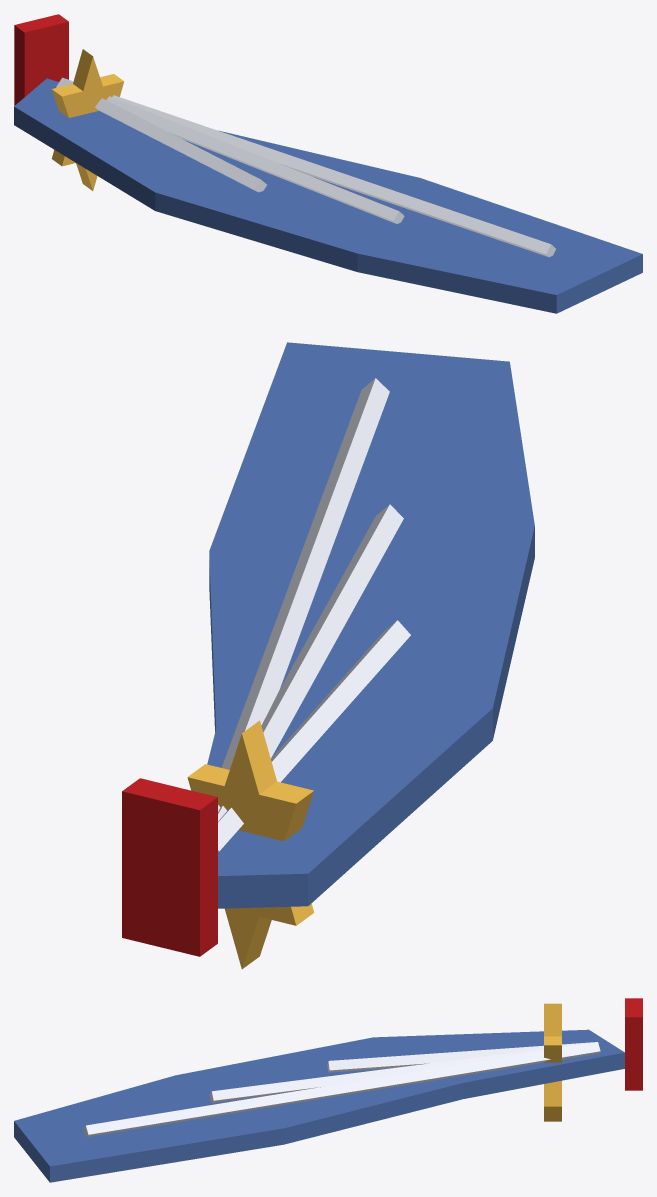
The model's file is TrophySkyfish.obj.
3 views of the same model, one above another, from view 1: azimuth 30°, elevation 25°; view 2: azimuth 150°, elevation 25°; view 3: azimuth 270°, elevation 25° (orthographic). The views are drawn at different scales.
Visible parts, largest first — view 1: TrophySkyfish; view 2: TrophySkyfish; view 3: TrophySkyfish.
Part boxes in pixels (x1=…): TrophySkyfish: x1=14, y1=14, x2=642, y2=313; TrophySkyfish: x1=122, y1=342, x2=534, y2=969; TrophySkyfish: x1=14, y1=998, x2=642, y2=1182.
Size of the model in its own units: 0.36 by 0.145 by 0.7.
